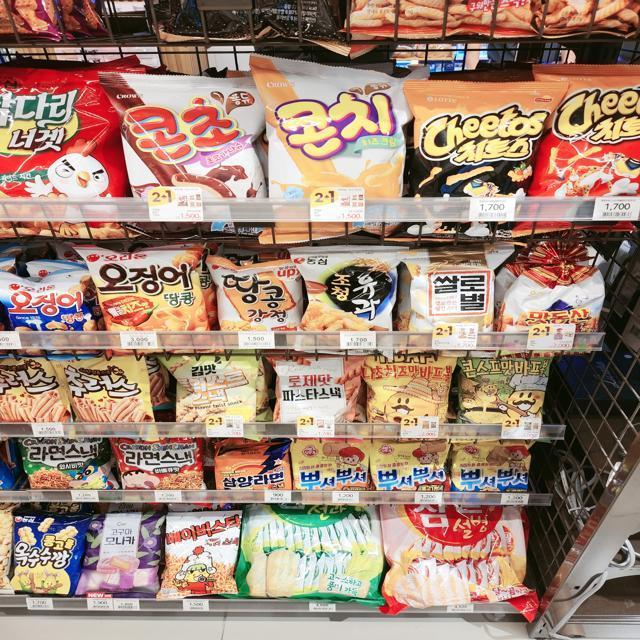product: (258, 55, 405, 235), (117, 72, 267, 239), (409, 80, 556, 241), (3, 64, 123, 224), (86, 245, 217, 355), (392, 502, 532, 602), (294, 246, 404, 357), (501, 247, 605, 358), (257, 508, 383, 598), (560, 67, 640, 208), (268, 345, 369, 442), (399, 255, 498, 353), (449, 349, 553, 440), (357, 349, 457, 441), (163, 349, 265, 439), (210, 259, 304, 354), (157, 507, 251, 601), (1, 269, 100, 346), (64, 356, 157, 428), (111, 438, 209, 504), (7, 513, 80, 598), (89, 509, 160, 595), (365, 439, 452, 503), (22, 439, 109, 497), (452, 437, 527, 501), (292, 440, 367, 499), (3, 357, 66, 421), (211, 455, 293, 503)
